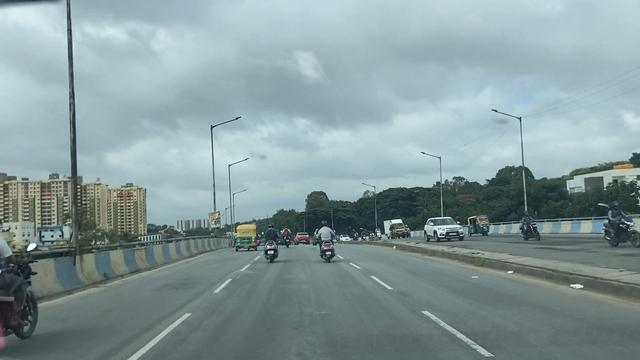LMV: (313, 217, 339, 264), (264, 223, 283, 264), (234, 225, 259, 251)
